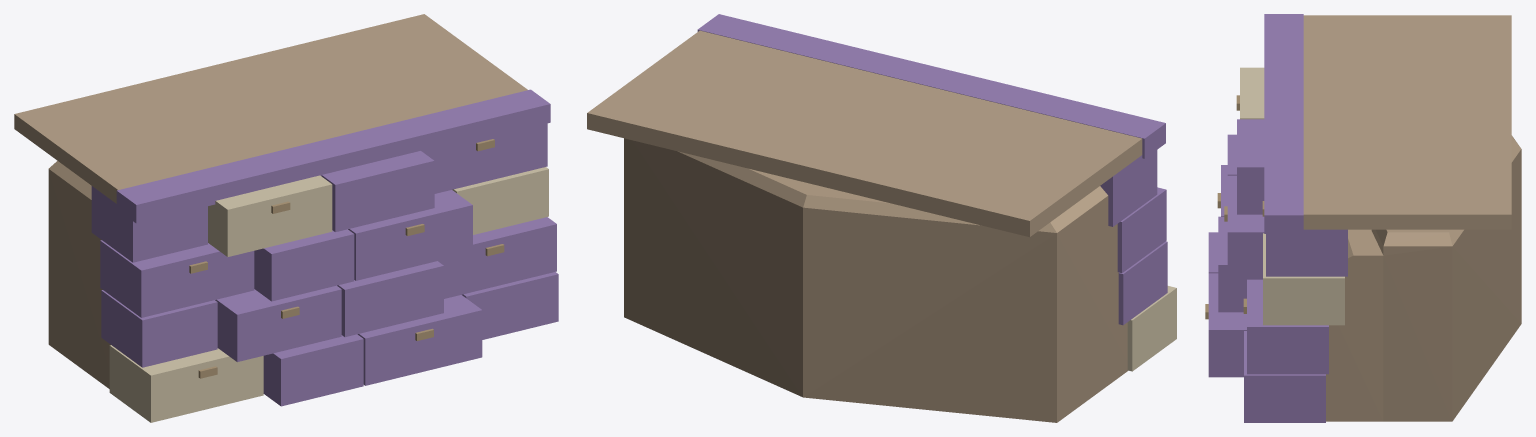
The model's file is terrace-corner-lilac.glb.
3 renders of one model, left to right at view 1: azimuth 30°, elevation 25°; view 2: azimuth 150°, elevation 25°; view 3: azimuth 270°, elevation 25°, orthographic. The views are drawn at different scales.
Visible parts, largest first — view 1: terrace-corner-lilac; view 2: terrace-corner-lilac; view 3: terrace-corner-lilac.
Part boxes in pixels (box(x1,y1,x2,y2)): terrace-corner-lilac: box(14, 14, 558, 422); terrace-corner-lilac: box(587, 14, 1176, 422); terrace-corner-lilac: box(1205, 14, 1521, 422).
Bounding box in the file's own units: 6.04 × 2.93 × 4.01.
